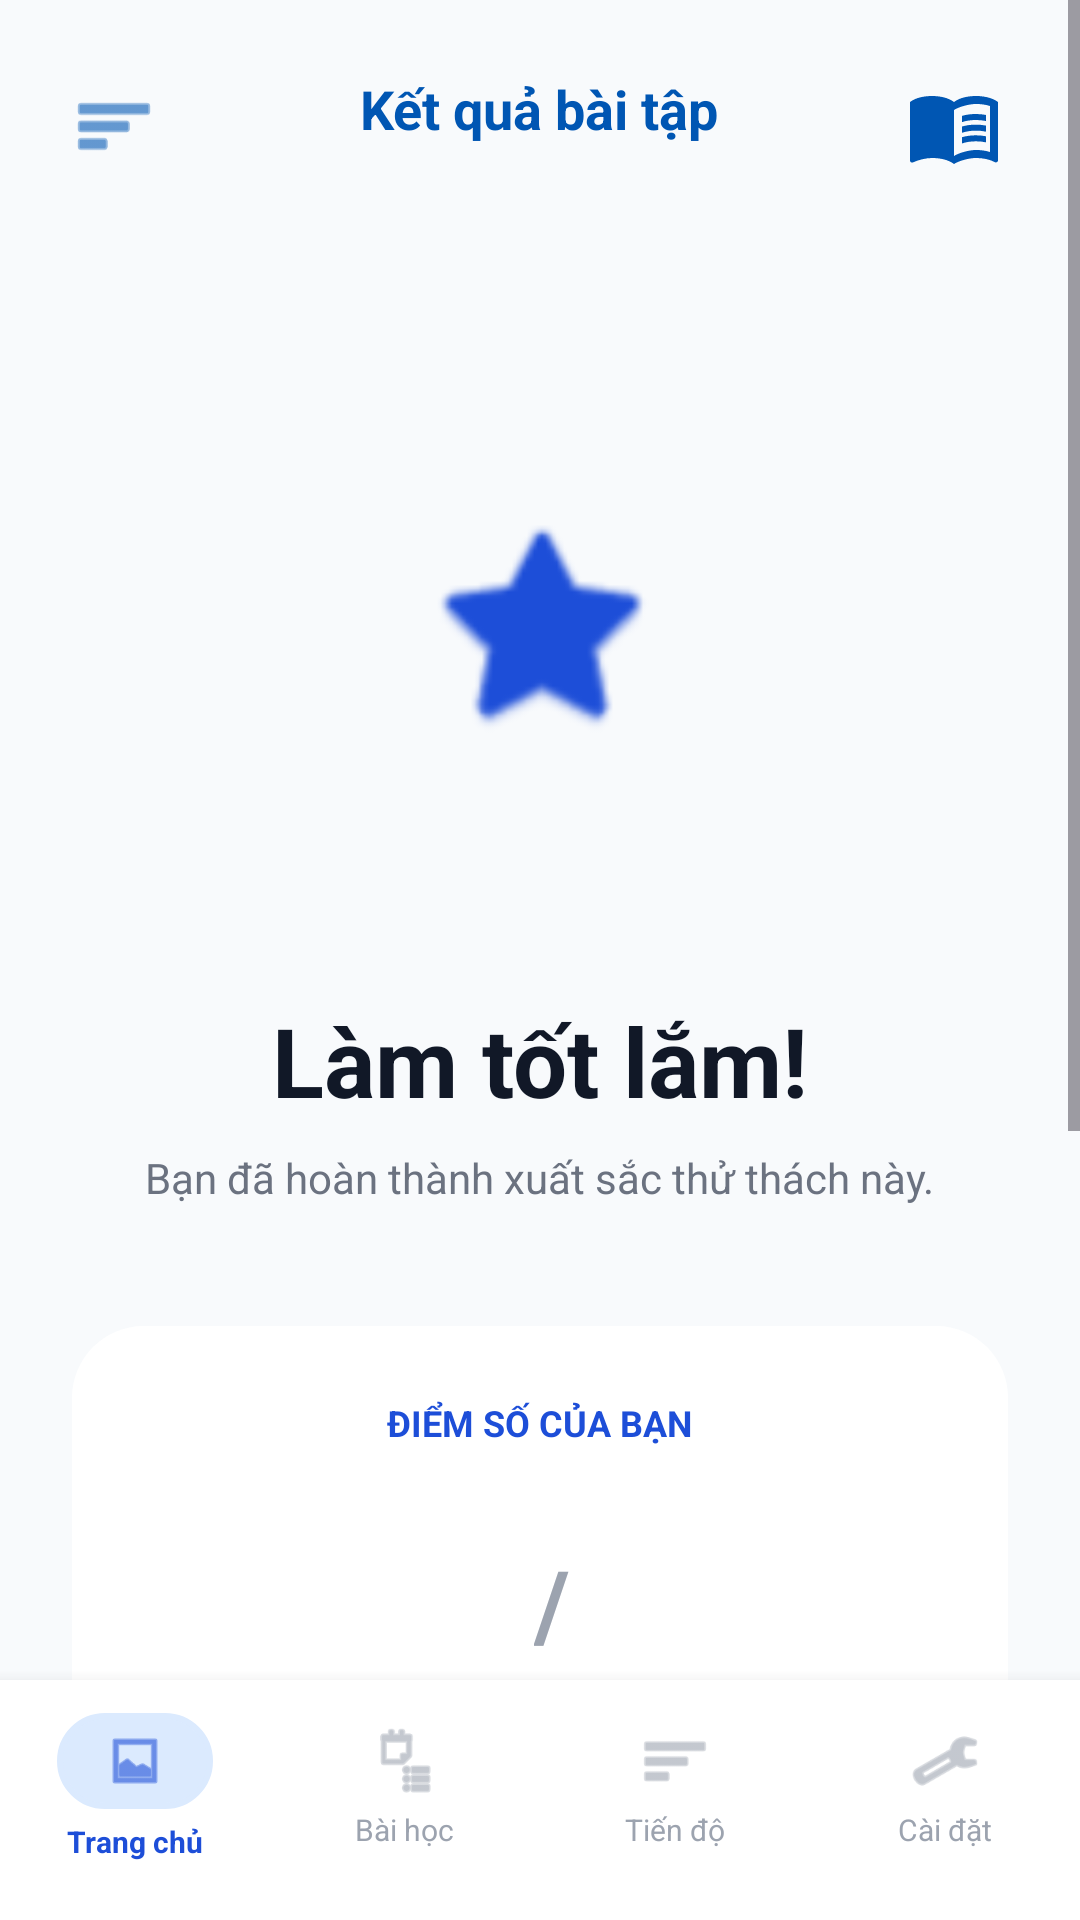

Icons on this 1080×1920 Android screen, each with its box as detection(x1, y1, x2, y2):
agenda: detection(380, 1729, 430, 1792)
bieu tuong quyen sach: detection(910, 96, 998, 164)
gallery: detection(112, 1738, 158, 1784)
sort by size: detection(78, 103, 150, 150), detection(644, 1741, 706, 1781)
star on: detection(442, 529, 642, 723)
